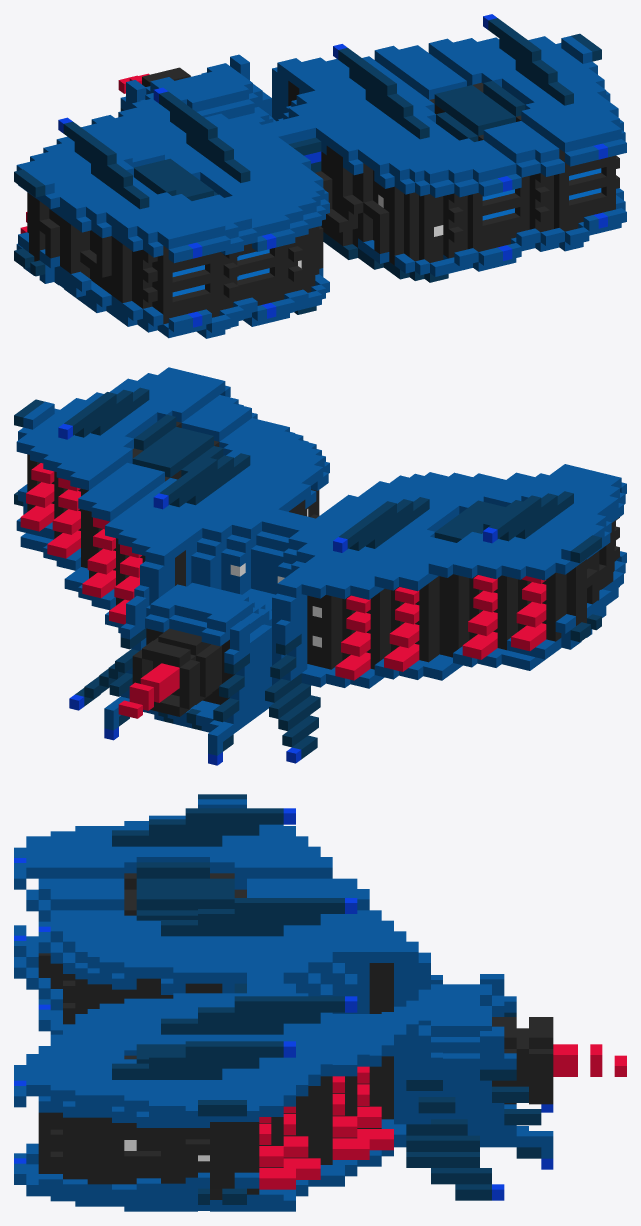
The model's file is Spaceship10.gltf.
3 views of the same model, one above another, from view 1: azimuth 30°, elevation 25°; view 2: azimuth 150°, elevation 25°; view 3: azimuth 270°, elevation 25° (orthographic). The views are drawn at different scales.
Parts seen in each view (by area): view 1: Untitled; view 2: Untitled; view 3: Untitled.
Part boxes in pixels (<box>): Untitled: <box>14,14,626,338</box>; Untitled: <box>14,367,626,765</box>; Untitled: <box>14,794,626,1211</box>.
Size of the model in its own units: 6 by 1.9 by 5.
1 material, 1 textured.
